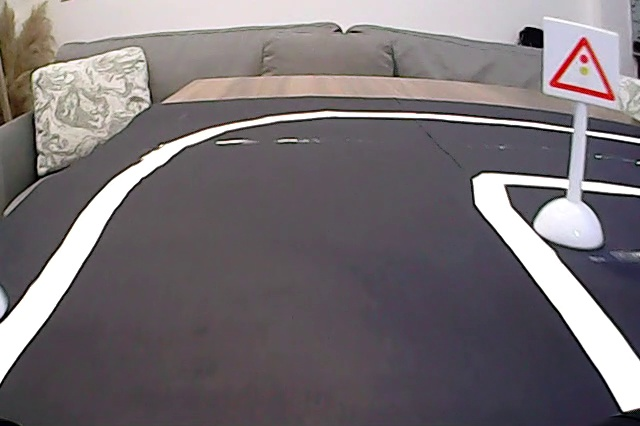red light: (545, 18, 620, 107)
